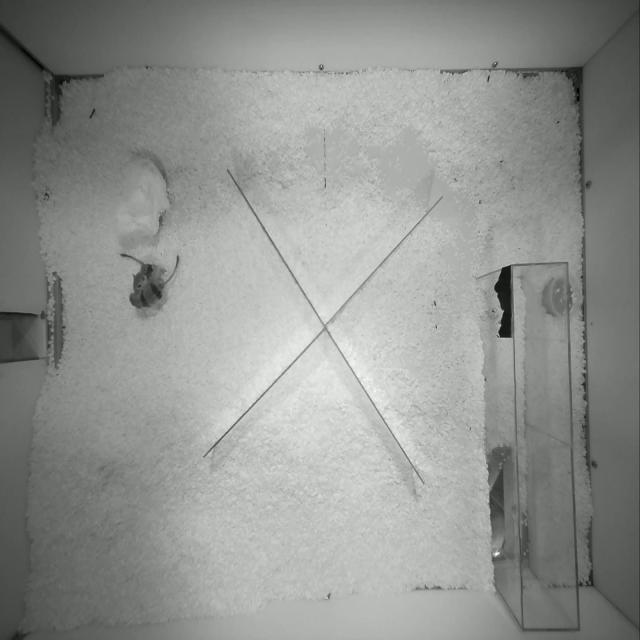pup_h_stripe: (130, 254, 179, 308)
pup_v_stripe: (121, 253, 168, 292)
